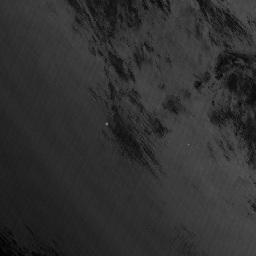Target: (103, 121, 110, 127)
